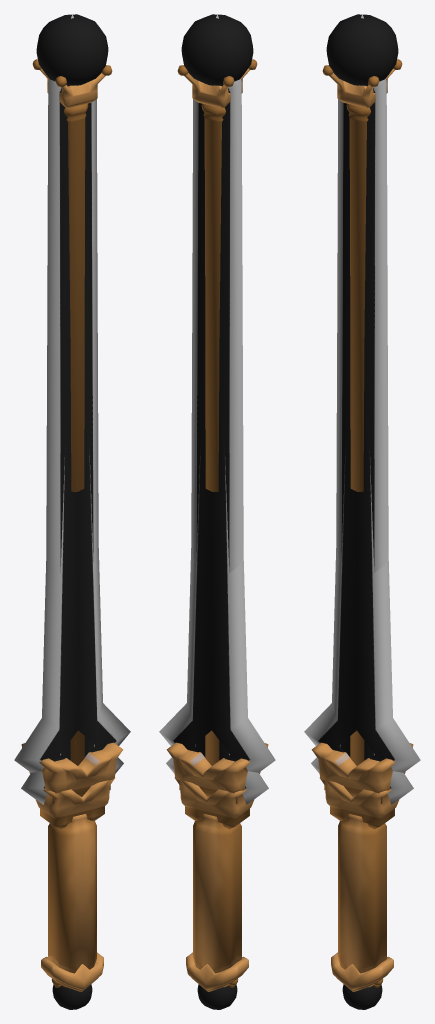
The model's file is weapons.fbx.
3 views of the same model, side by side, from view 1: azimuth 30°, elevation 25°; view 2: azimuth 150°, elevation 25°; view 3: azimuth 330°, elevation 25° (orthographic).
Visible parts, largest first — view 1: shortsword, sword, scepter; view 2: shortsword, sword, scepter; view 3: shortsword, sword, scepter.
Part boxes in pixels (x1,y1,x2,y2): shortsword: [14, 370, 130, 1009]; sword: [21, 14, 123, 991]; scepter: [32, 14, 112, 987]; shortsword: [159, 370, 275, 1009]; sword: [166, 14, 268, 991]; scepter: [177, 14, 257, 987]; shortsword: [304, 370, 420, 1009]; sword: [311, 14, 413, 991]; scepter: [322, 14, 402, 987].
Size of the model in its own units: 14.82 by 121 by 7.87.
Materials: 3 (3 with a texture image).
